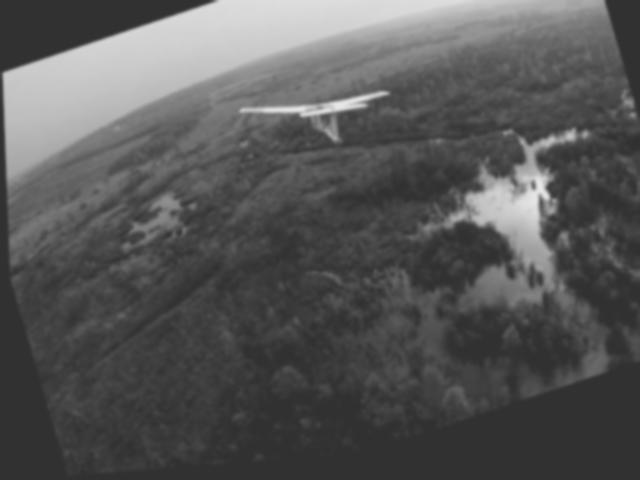hedef: (233, 64, 392, 181)
